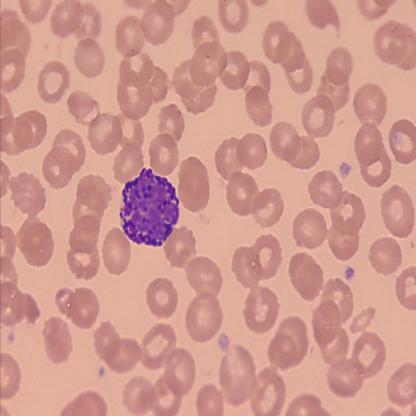Basophil: (118, 166, 181, 250)
